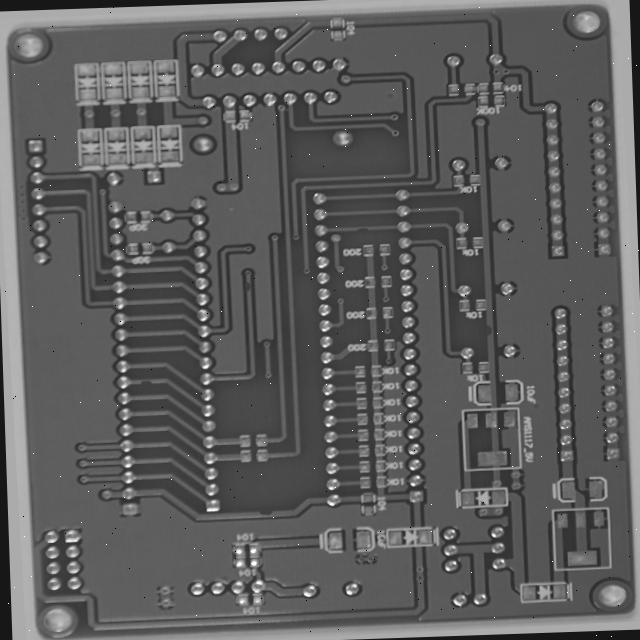mouse_bite: (483, 324, 498, 342), (130, 375, 148, 388), (248, 510, 269, 521), (356, 223, 374, 235), (240, 278, 253, 293)
